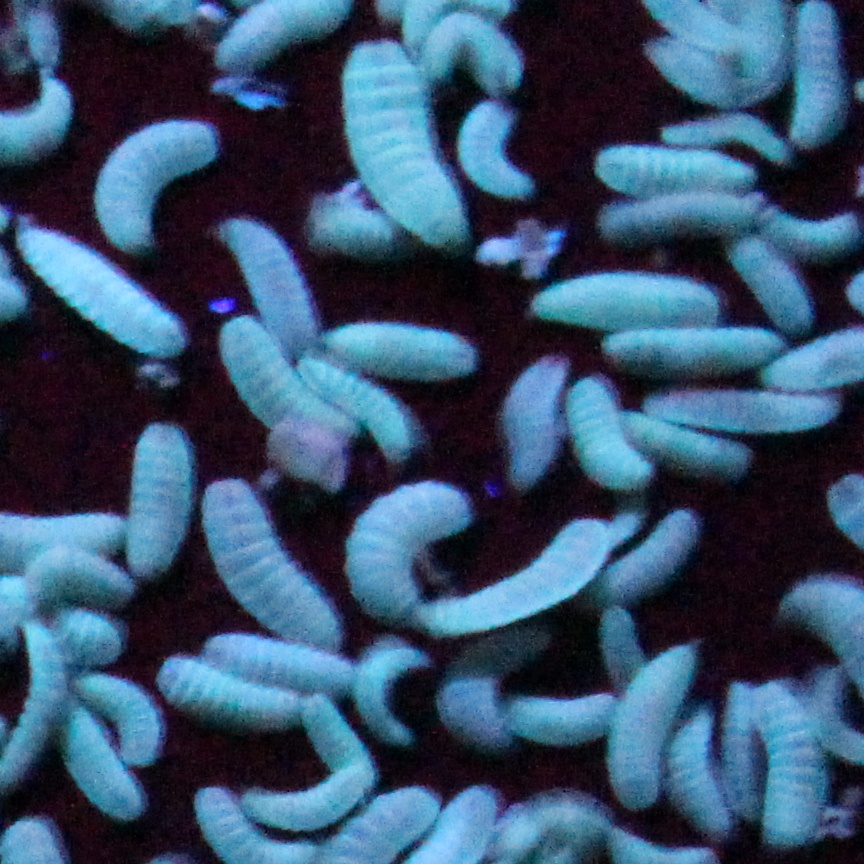larve: (421, 500, 619, 645), (14, 217, 211, 357), (336, 452, 489, 615), (351, 47, 474, 247), (199, 477, 341, 645), (599, 627, 696, 820), (201, 317, 349, 440), (104, 112, 219, 250), (736, 685, 836, 840), (264, 700, 381, 822), (116, 417, 206, 570), (531, 262, 729, 330), (294, 360, 419, 460), (194, 615, 359, 690), (219, 212, 319, 332), (321, 322, 486, 390), (776, 15, 861, 147), (591, 507, 701, 605), (164, 650, 316, 720), (606, 410, 754, 480), (641, 32, 759, 115), (211, 5, 361, 70), (671, 717, 744, 847), (644, 385, 839, 432), (561, 380, 646, 485), (606, 187, 764, 242), (509, 367, 584, 482), (501, 692, 629, 755), (606, 150, 756, 202), (446, 670, 534, 755), (74, 677, 166, 757), (466, 107, 544, 197), (361, 637, 434, 732)
